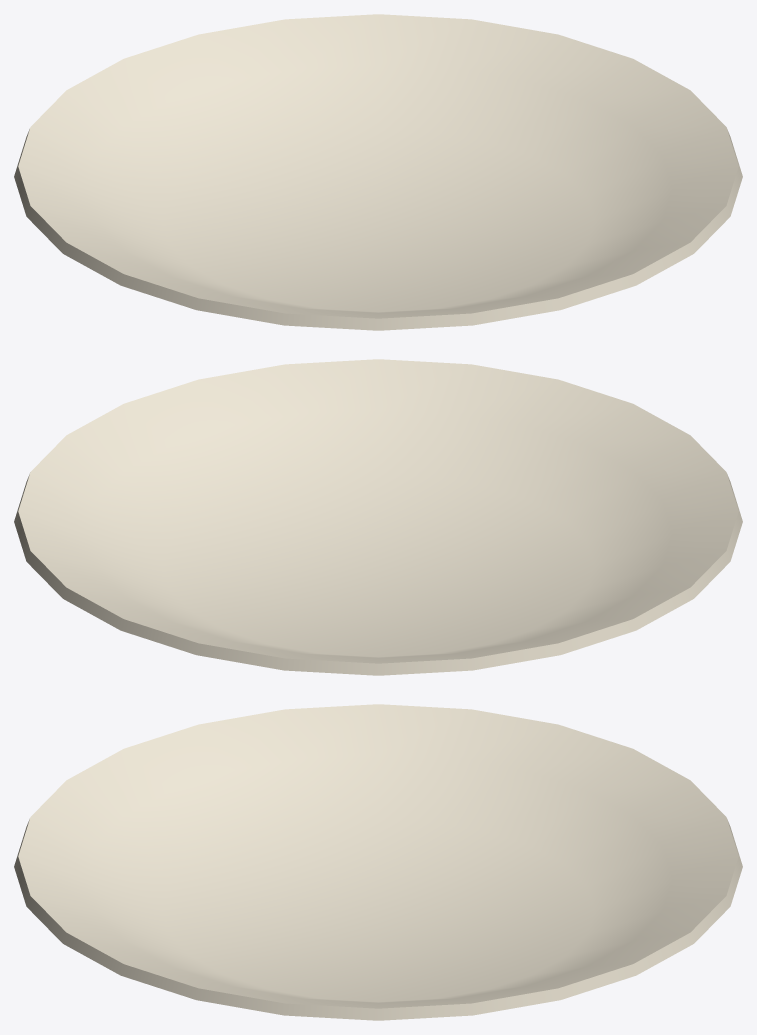
File: tpl_cucina_plate.glb
The picture shows the model from 3 angles, top to bottom: view 1: azimuth 30°, elevation 25°; view 2: azimuth 150°, elevation 25°; view 3: azimuth 270°, elevation 25°; orthographic projection.
Parts seen in each view (by area): view 1: tpl_cucina_plate; view 2: tpl_cucina_plate; view 3: tpl_cucina_plate.
Part boxes in pixels (x1=…): tpl_cucina_plate: x1=14, y1=14, x2=742, y2=330; tpl_cucina_plate: x1=14, y1=359, x2=742, y2=675; tpl_cucina_plate: x1=14, y1=704, x2=742, y2=1020.
Bounding box in the file's own units: 0.24 × 0.0238 × 0.24.
